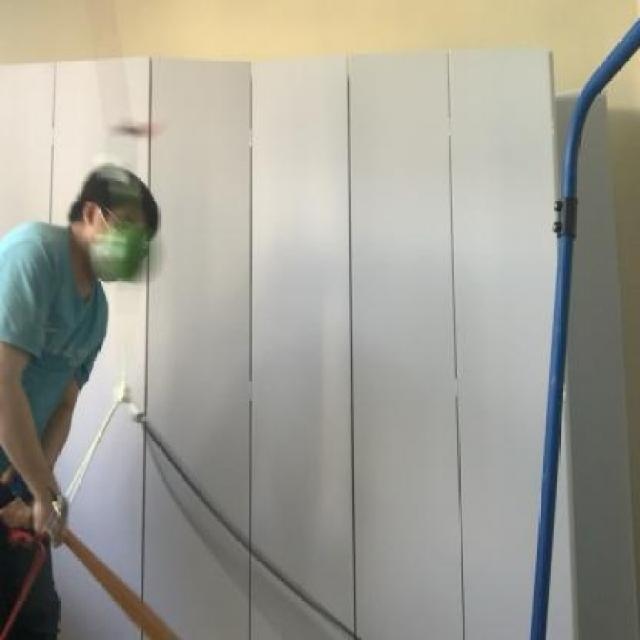baseball: (96, 218, 170, 282)
